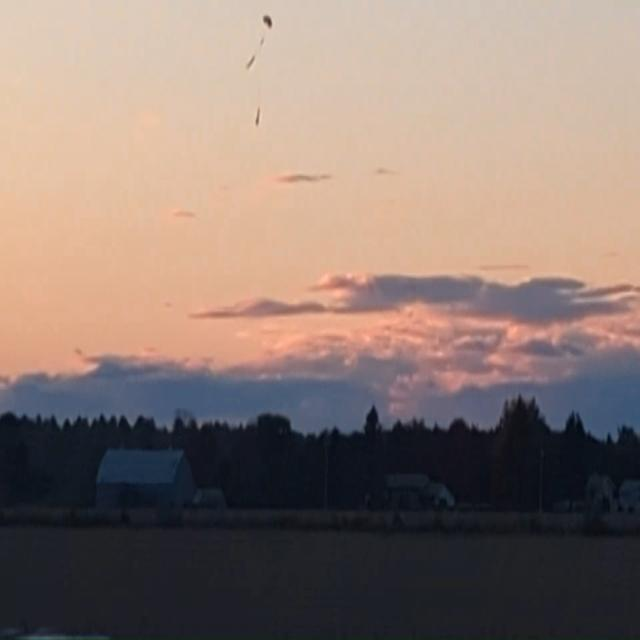Rocket: (256, 107, 260, 125)
